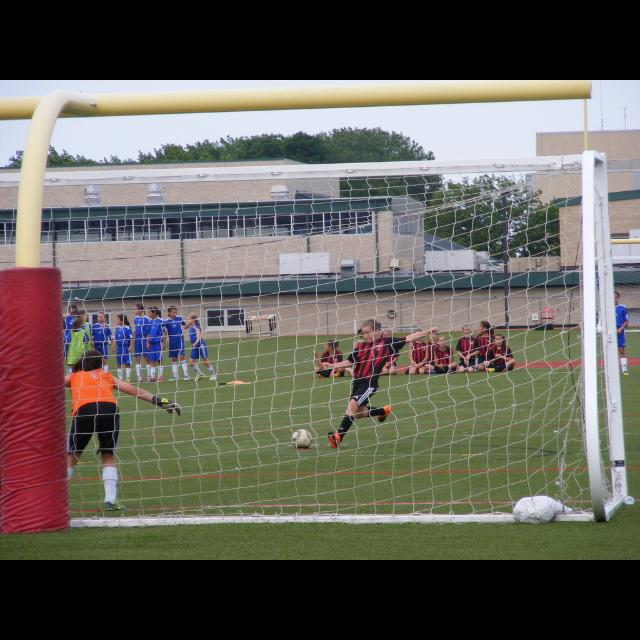Football: (290, 429, 312, 447)
